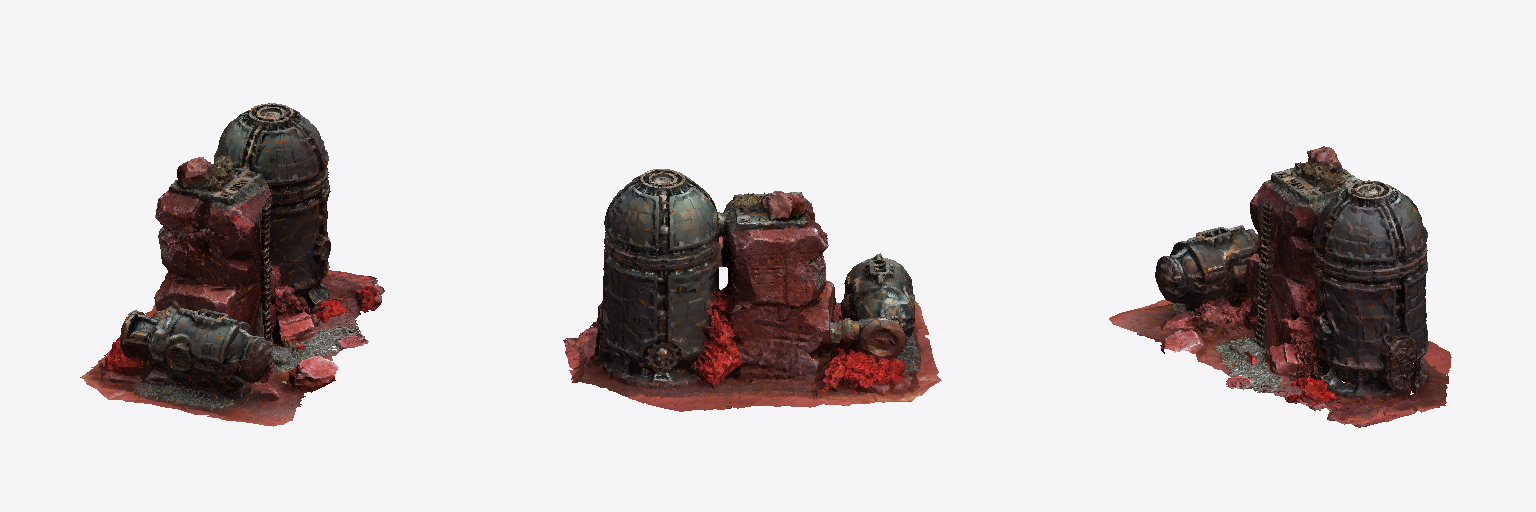
3 views of the same model, side by side, from view 1: azimuth 30°, elevation 25°; view 2: azimuth 150°, elevation 25°; view 3: azimuth 270°, elevation 25° (orthographic).
Visible parts, largest first — view 1: centerR1; view 2: centerR1; view 3: centerR1.
Part boxes in pixels (left/top/right/bottom): centerR1: left=80, top=103, right=384, bottom=426; centerR1: left=563, top=169, right=941, bottom=411; centerR1: left=1109, top=146, right=1451, bottom=427.
Bounding box in the file's own units: 2151 × 1223 × 1972.
1 materials, 1 textured.